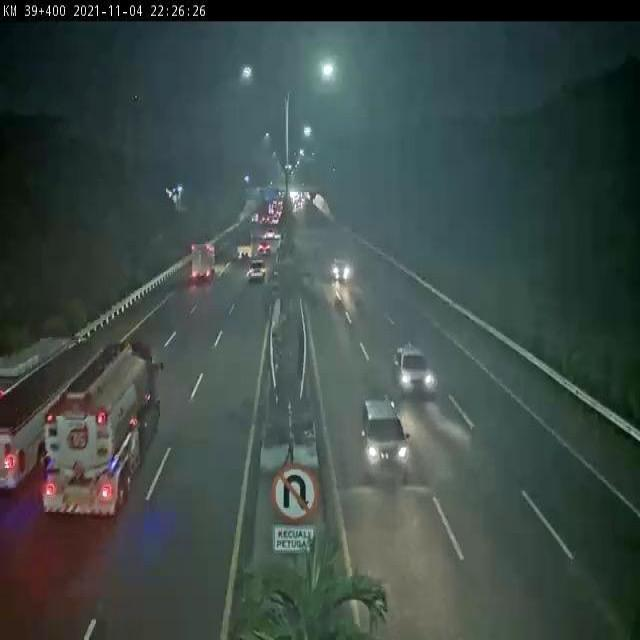bus-l-: (0, 334, 90, 498)
car: (361, 398, 409, 478), (394, 346, 435, 394), (331, 256, 351, 281), (249, 260, 266, 280), (257, 241, 271, 255)
truck-l-: (190, 242, 216, 278)
truck-m-: (236, 233, 254, 259)
truck-xl-: (45, 342, 161, 518)
